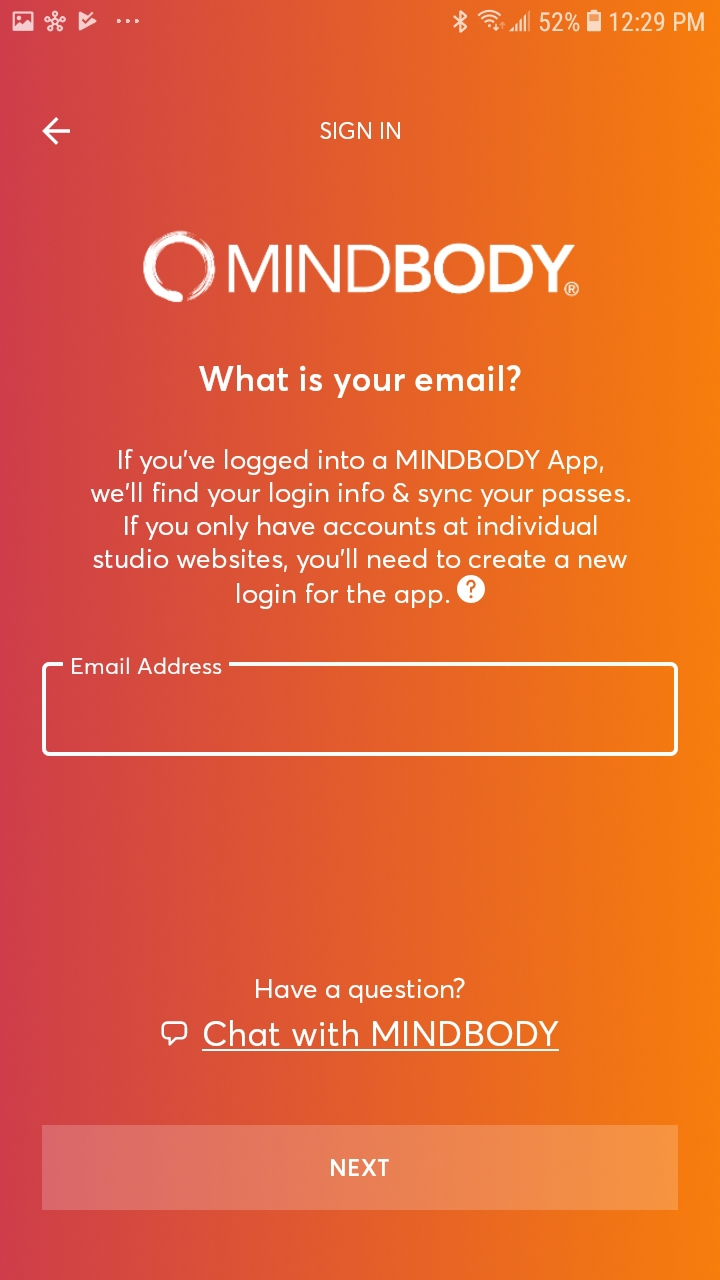EditText: (42, 656, 678, 757)
Icon: (456, 574, 486, 604), (42, 117, 72, 146), (161, 1020, 189, 1047)
Image: (143, 230, 581, 304)
Text: (90, 448, 631, 611), (202, 1019, 560, 1053), (198, 364, 522, 400), (256, 977, 467, 1004), (72, 656, 223, 676), (320, 122, 401, 141)
TextButton: (42, 1124, 678, 1210)
UpperTaskBar: (1, 1, 720, 34)
